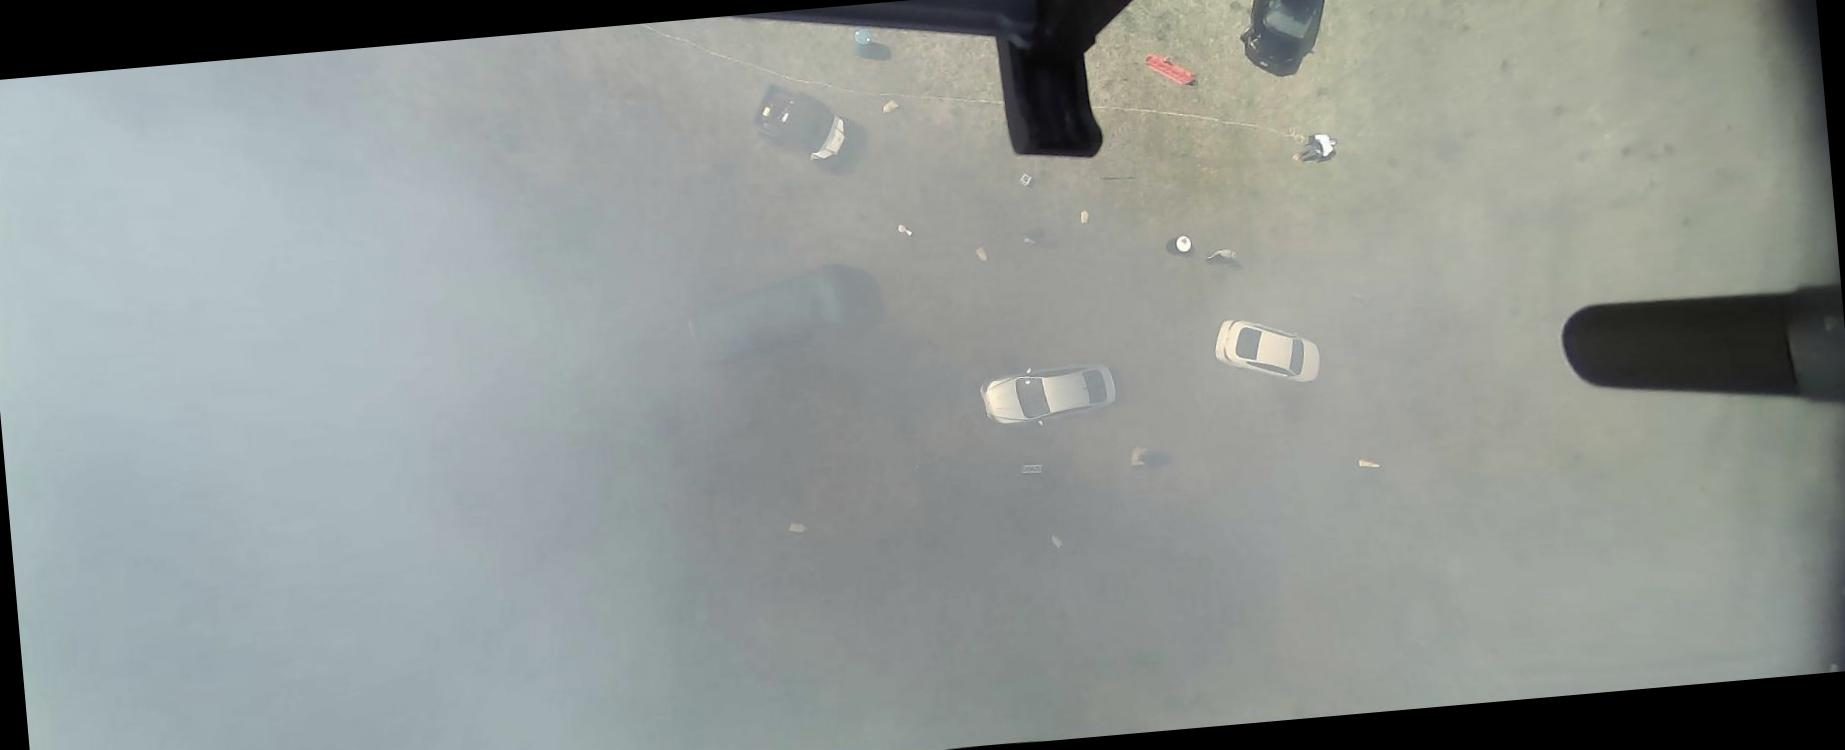vehicle: (682, 259, 885, 372), (975, 357, 1120, 433), (744, 75, 850, 172), (1210, 311, 1324, 392), (1234, 0, 1340, 80)
